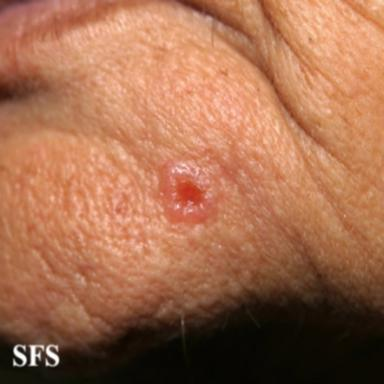basal-cell-carcinoma: (159, 161, 217, 223)
